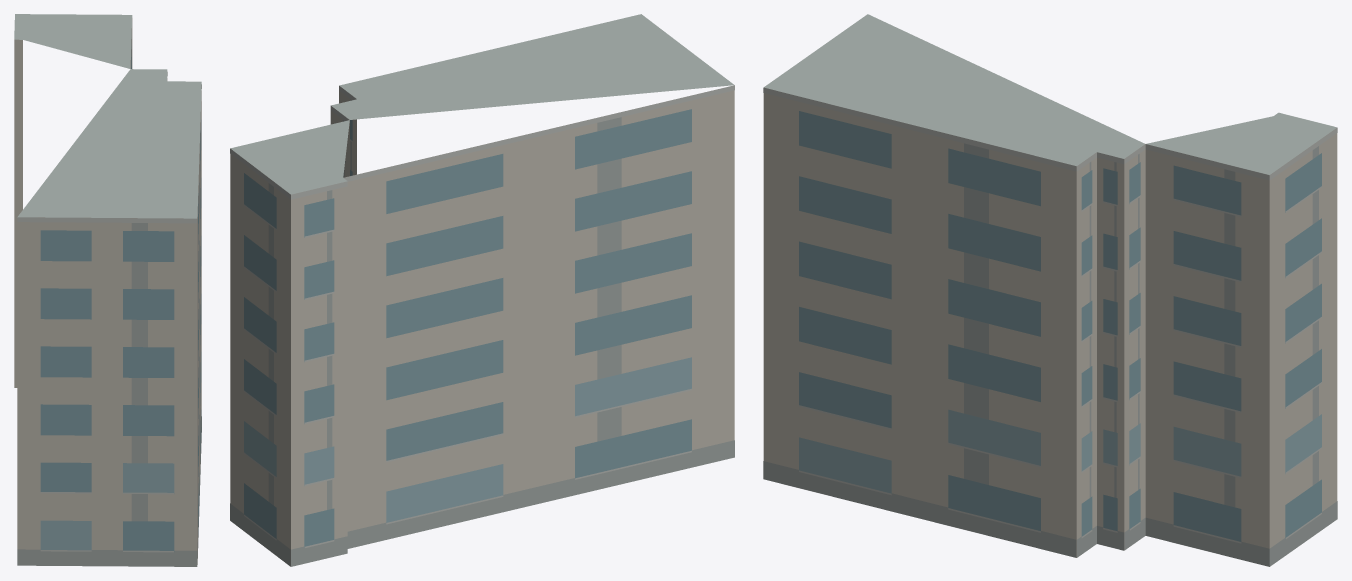
Rendered from survey-upis-32788646.glb.
3 views of the same model, side by side, from view 1: azimuth 30°, elevation 25°; view 2: azimuth 150°, elevation 25°; view 3: azimuth 270°, elevation 25° (orthographic). The views are drawn at different scales.
Visible parts, largest first — view 1: survey-upis-32788646.tmp; view 2: survey-upis-32788646.tmp; view 3: survey-upis-32788646.tmp.
Boxes of the visible parts, box(x1,y1,x2,y2) form: survey-upis-32788646.tmp: box(14, 14, 201, 566); survey-upis-32788646.tmp: box(230, 14, 734, 566); survey-upis-32788646.tmp: box(763, 14, 1337, 566).
Size of the model in its own units: 15.62 by 17.7 by 23.51.
